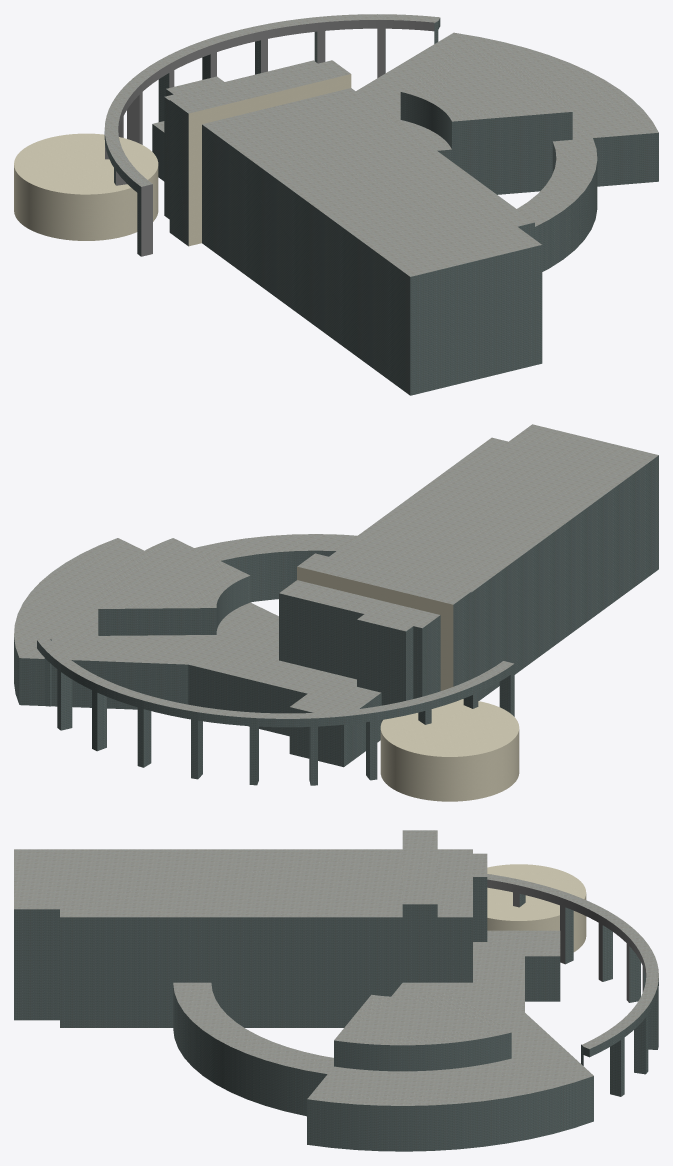
File: yfl.gltf
3 views of the same model, one above another, from view 1: azimuth 30°, elevation 25°; view 2: azimuth 150°, elevation 25°; view 3: azimuth 270°, elevation 25° (orthographic). The views are drawn at different scales.
Parts seen in each view (by area): view 1: root; view 2: root; view 3: root.
Boxes of the visible parts, <box> form: root: <box>14,14,658,395</box>; root: <box>14,424,658,801</box>; root: <box>14,830,658,1151</box>.
Bounding box in the file's own units: 80.33 × 19 × 89.71.
5 materials, 4 textured.
